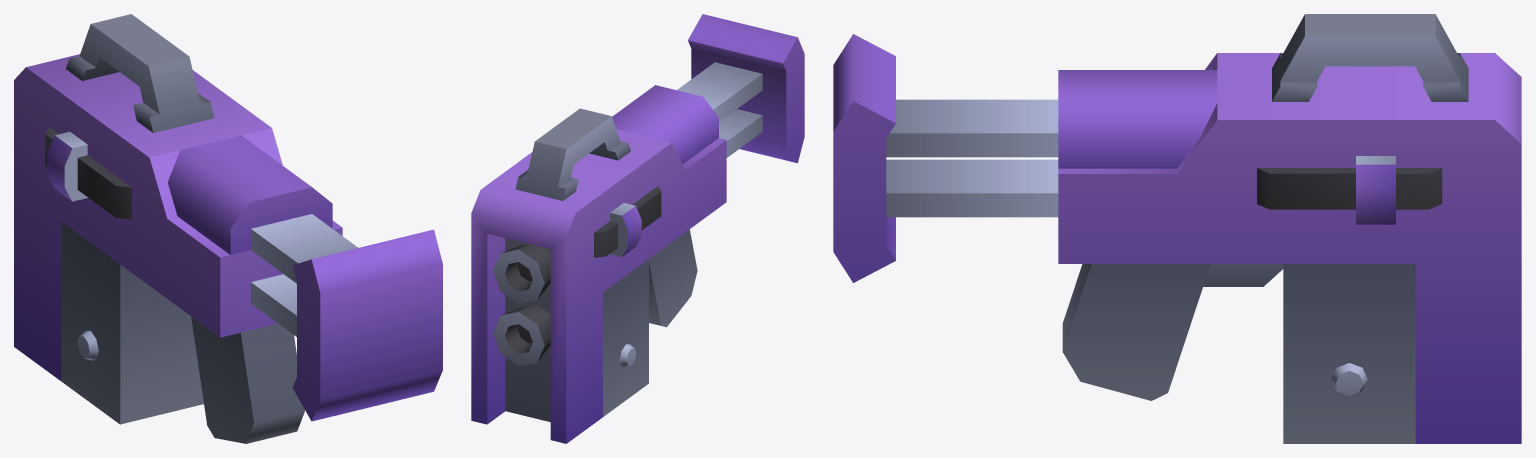
Rendered from gun-furnace.glb.
3 renders of one model, left to right at view 1: azimuth 30°, elevation 25°; view 2: azimuth 150°, elevation 25°; view 3: azimuth 270°, elevation 25°, orthographic. The views are drawn at different scales.
Parts seen in each view (by area): view 1: blaster-i; view 2: blaster-i; view 3: blaster-i.
Boxes of the visible parts, box(x1,y1,x2,y2) form: blaster-i: box(14, 14, 442, 443); blaster-i: box(471, 14, 804, 443); blaster-i: box(833, 14, 1521, 443).
Bounding box in the file's own units: 0.165 × 0.32 × 0.52.
Materials: 1 (1 with a texture image).
